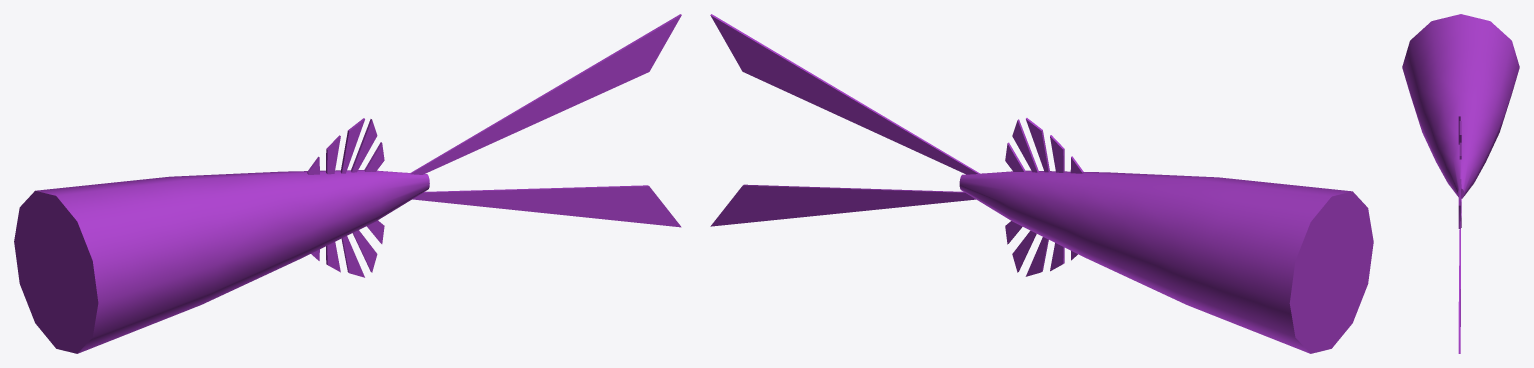
The model's file is Boss_QueueV2_Mesh.FBX.
3 views of the same model, side by side, from view 1: azimuth 30°, elevation 25°; view 2: azimuth 150°, elevation 25°; view 3: azimuth 270°, elevation 25° (orthographic). The views are drawn at different scales.
Parts seen in each view (by area): view 1: queue, Object001; view 2: queue, Object001; view 3: queue, Object001.
Part boxes in pixels (box(x1,y1,x2,y2)): queue: box(14, 118, 429, 353); Object001: box(410, 14, 681, 227); queue: box(959, 118, 1373, 353); Object001: box(710, 14, 979, 226); queue: box(1402, 14, 1519, 227); Object001: box(1458, 179, 1461, 353).
Bounding box in the file's own units: 254 × 82.73 × 59.54.
